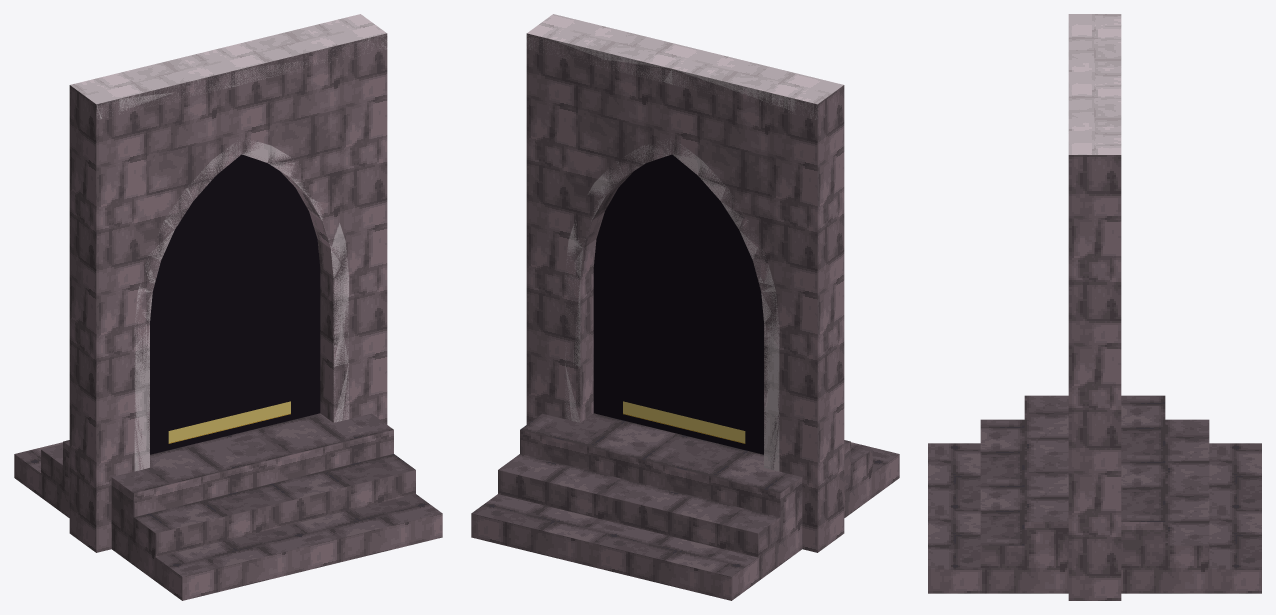
File: stairs_abgang_a.glb
3 views of the same model, side by side, from view 1: azimuth 30°, elevation 25°; view 2: azimuth 150°, elevation 25°; view 3: azimuth 270°, elevation 25° (orthographic).
Visible parts, largest first — view 1: stairs, glow; view 2: stairs, glow; view 3: stairs.
Part boxes in pixels (x1=…): stairs: x1=14, y1=14, x2=442, y2=600; glow: x1=168, y1=401, x2=290, y2=443; stairs: x1=471, y1=14, x2=899, y2=600; glow: x1=623, y1=401, x2=745, y2=443; stairs: x1=928, y1=14, x2=1261, y2=600.
Bounding box in the file's own units: 2.38 × 3.5 × 2.38.
Materials: 1 (1 with a texture image).
